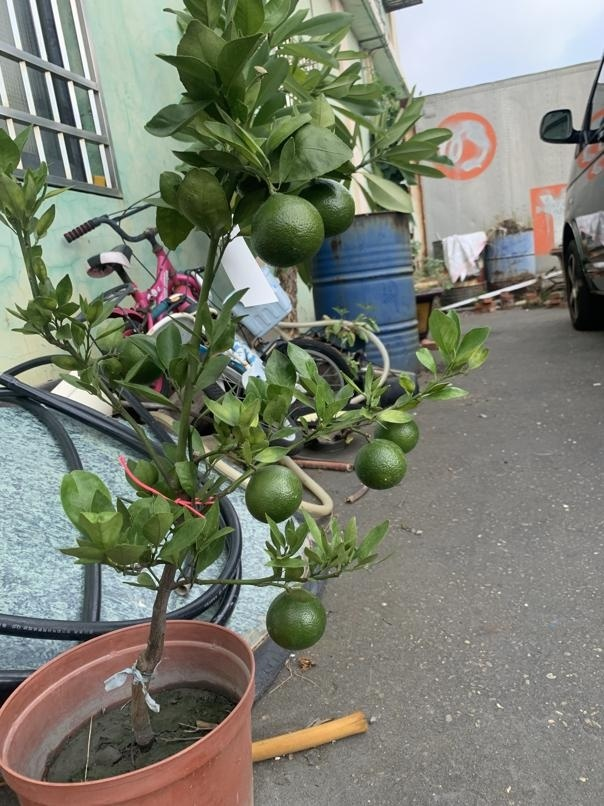Tangerine: (248, 188, 327, 269), (264, 584, 328, 650), (352, 432, 409, 492), (244, 466, 304, 522)
